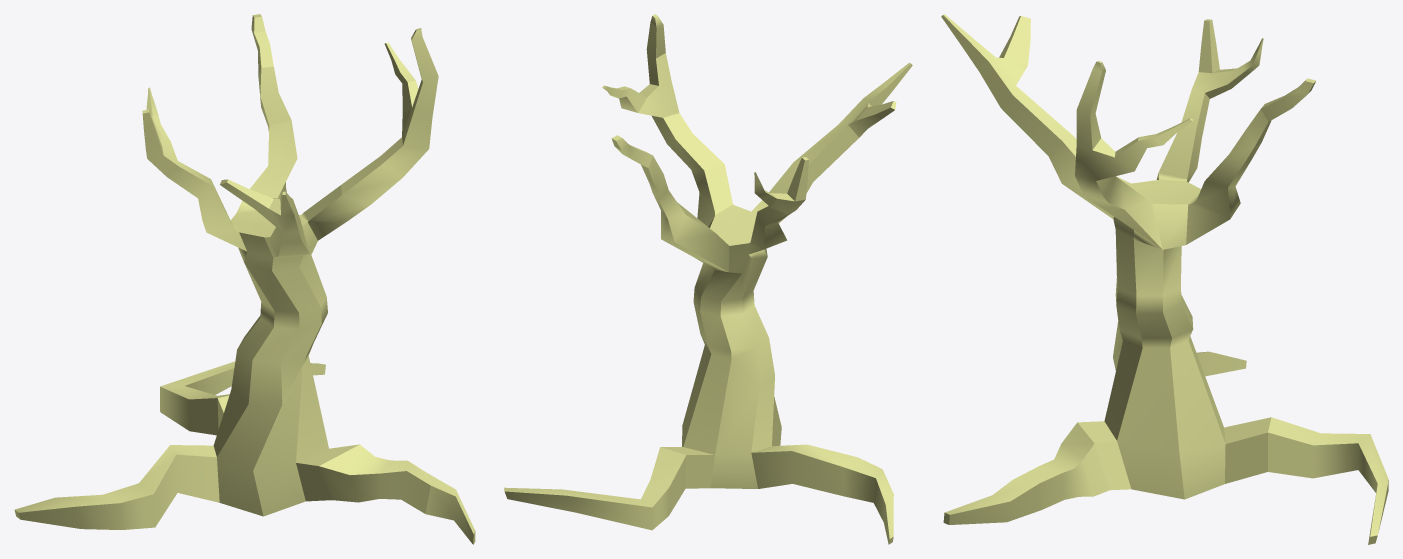
File: DeadTree.fbx
3 renders of one model, left to right at view 1: azimuth 30°, elevation 25°; view 2: azimuth 150°, elevation 25°; view 3: azimuth 270°, elevation 25°, orthographic. The views are drawn at different scales.
Parts seen in each view (by area): view 1: pCylinder24; view 2: pCylinder24; view 3: pCylinder24.
Part boxes in pixels (x1,y1,x2,y2): pCylinder24: [14, 14, 475, 544]; pCylinder24: [504, 14, 912, 544]; pCylinder24: [941, 14, 1388, 544].
Bounding box in the file's own units: 11.45 × 13.53 × 11.56.
